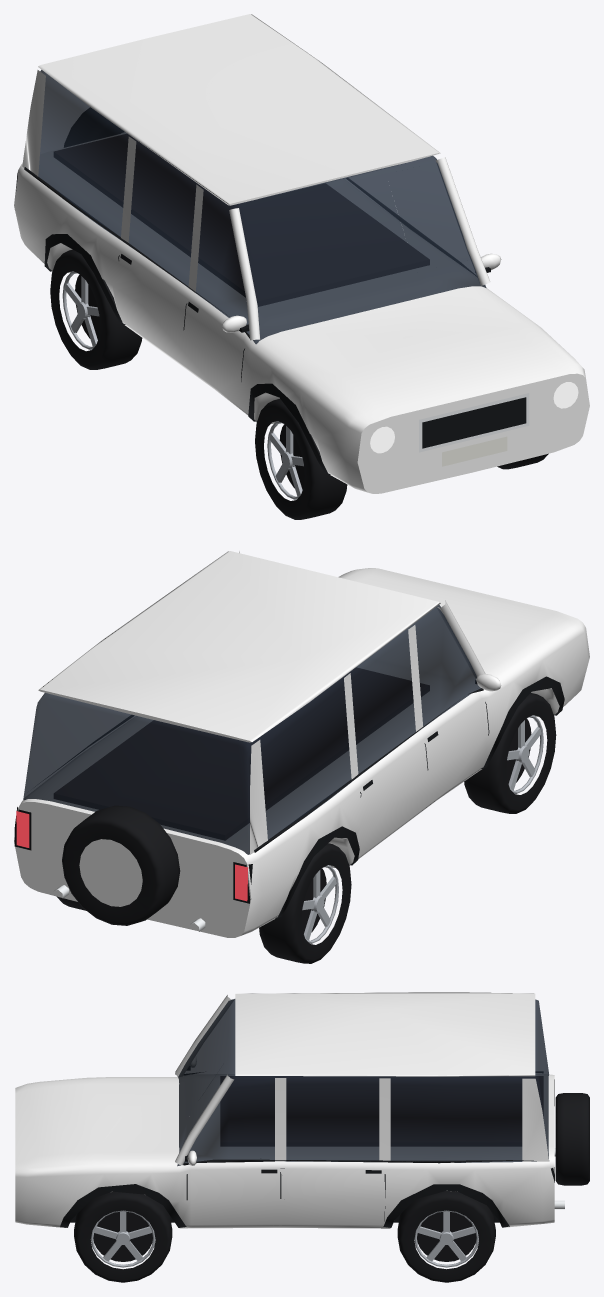
The model's file is mercedes_g_class.lod.glb.
3 views of the same model, one above another, from view 1: azimuth 30°, elevation 25°; view 2: azimuth 150°, elevation 25°; view 3: azimuth 270°, elevation 25° (orthographic). The views are drawn at different scales.
Parts seen in each view (by area): view 1: body_paint, body_glass, body_trim, tire (×2), door_glass, rim (×2), body_tire, body_chrome, headlights; view 2: body_paint, body_glass, body_trim, tire (×2), body_tire, rim (×2), taillights; view 3: body_paint, body_glass, body_trim, tire (×2), door_paint, door_glass, body_tire, rim_back (×2), rim (×2).
Part boxes in pixels (left/top/right/bottom): body_paint: left=14, top=14, right=589, bottom=493; body_glass: left=38, top=70, right=486, bottom=344; body_trim: left=16, top=134, right=526, bottom=474; tire (×2): left=50, top=249, right=347, bottom=519; door_glass: left=386, top=156, right=471, bottom=271; rim (×2): left=62, top=271, right=303, bottom=499; body_tire: left=64, top=108, right=123, bottom=147; body_chrome: left=419, top=393, right=529, bottom=452; headlights: left=370, top=382, right=578, bottom=453; body_paint: left=14, top=551, right=589, bottom=937; body_glass: left=23, top=605, right=483, bottom=854; body_trim: left=14, top=668, right=564, bottom=918; tire (×2): left=259, top=693, right=556, bottom=963; body_tire: left=62, top=805, right=180, bottom=925; rim (×2): left=302, top=715, right=543, bottom=943; taillights: left=16, top=811, right=248, bottom=901; body_paint: left=15, top=992, right=554, bottom=1228; body_glass: left=177, top=999, right=549, bottom=1166; body_trim: left=60, top=1066, right=554, bottom=1227; tire (×2): left=74, top=1191, right=495, bottom=1282; door_paint: left=187, top=1078, right=284, bottom=1228; door_glass: left=187, top=1056, right=280, bottom=1162; body_tire: left=555, top=1093, right=589, bottom=1185; rim_back (×2): left=93, top=1212, right=476, bottom=1261; rim (×2): left=91, top=1210, right=478, bottom=1267.
Size of the model in its own units: 2.23 by 1.98 by 5.04.
